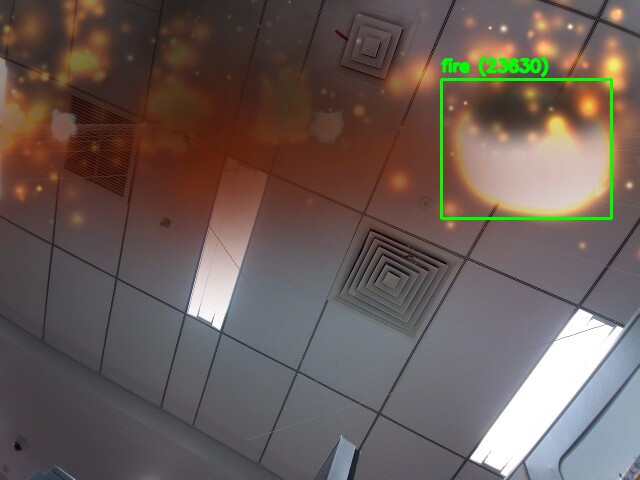fire: (441, 79, 611, 218)
